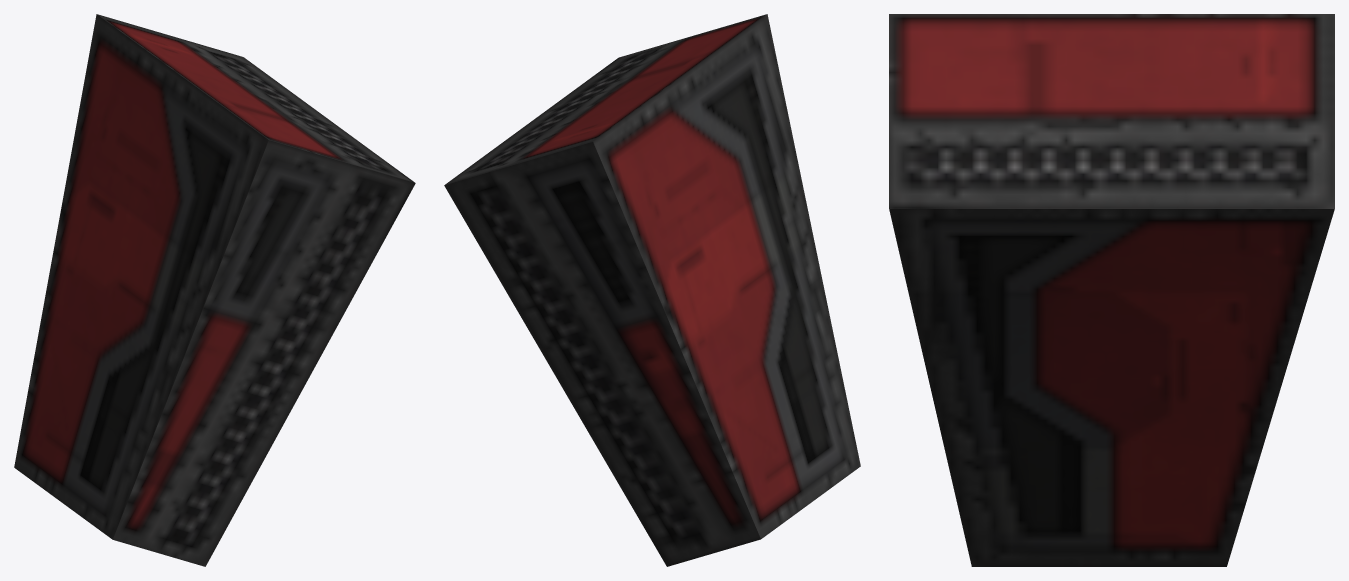
The model's file is BFP_PlasmaCannonBridge_Right.FBX.
The picture shows the model from 3 angles, left to right: view 1: azimuth 30°, elevation 25°; view 2: azimuth 150°, elevation 25°; view 3: azimuth 270°, elevation 25°; orthographic projection. The views are drawn at different scales.
Parts seen in each view (by area): view 1: BFP_PlasmaCannonBridge_Right; view 2: BFP_PlasmaCannonBridge_Right; view 3: BFP_PlasmaCannonBridge_Right.
Part boxes in pixels (x1,y1,x2,y2): BFP_PlasmaCannonBridge_Right: (14,14,415,566); BFP_PlasmaCannonBridge_Right: (444,14,860,566); BFP_PlasmaCannonBridge_Right: (889,14,1334,566).
Size of the model in its own units: 57.24 by 89.3 by 62.98.
1 material, 1 textured.
